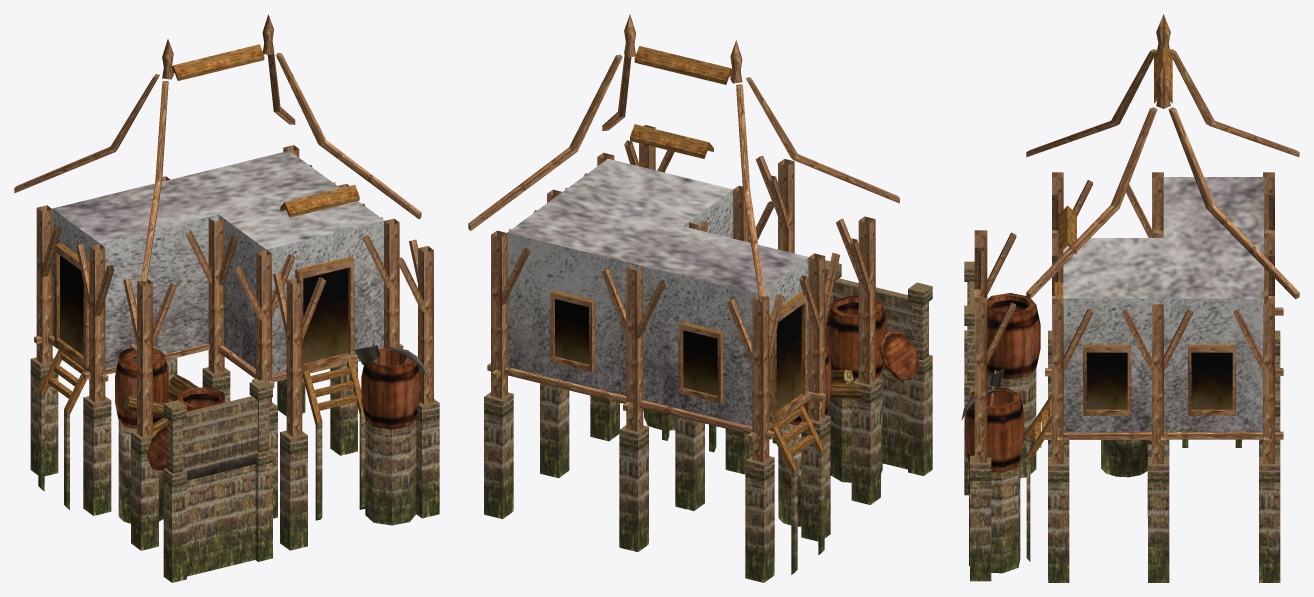
Rendered from storehouse.dae.
3 renders of one model, left to right at view 1: azimuth 30°, elevation 25°; view 2: azimuth 150°, elevation 25°; view 3: azimuth 270°, elevation 25°, orthographic. The views are drawn at different scales.
Parts seen in each view (by area): view 1: storehouse; view 2: storehouse; view 3: storehouse.
Boxes of the visible parts, bbox=[...] form: storehouse: bbox=[14, 14, 439, 582]; storehouse: bbox=[468, 14, 932, 582]; storehouse: bbox=[961, 14, 1299, 582].
Bounding box in the file's own units: 12.35 × 12.19 × 19.07.
